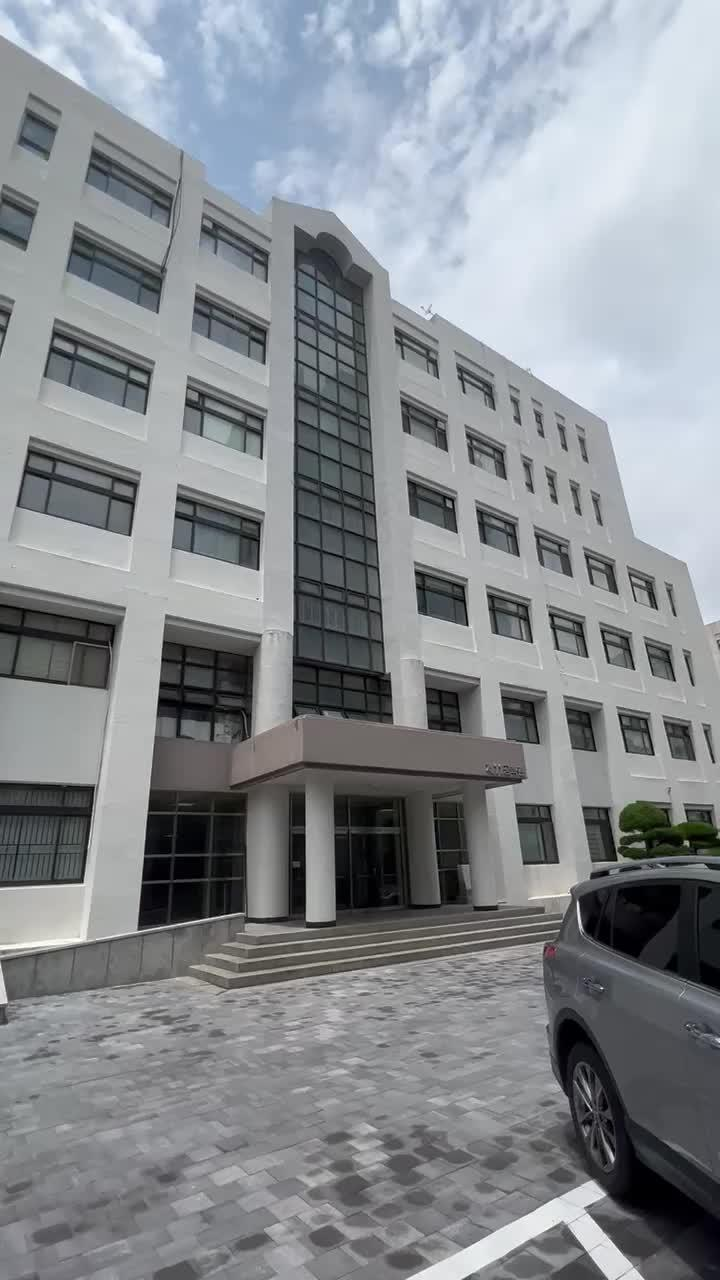building: (20, 116, 582, 900)
